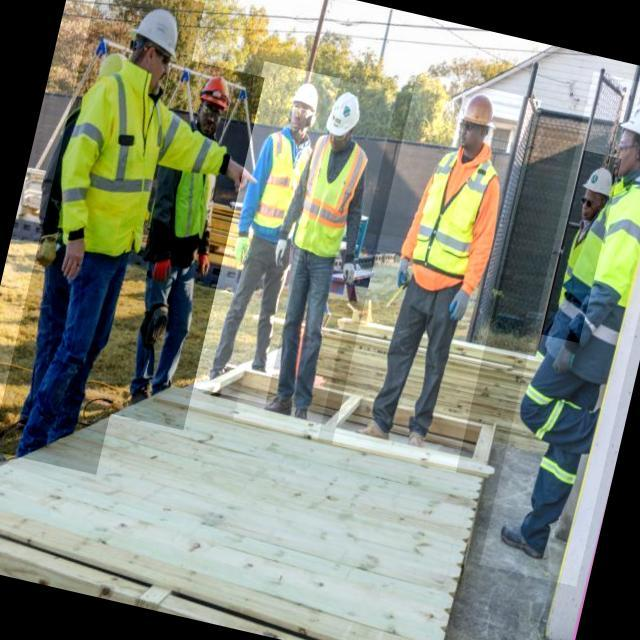Gloves: (549, 339, 589, 382), (445, 285, 474, 331), (391, 254, 419, 295), (233, 229, 256, 268), (340, 259, 363, 294), (273, 234, 289, 274)
Helmet: (126, 3, 188, 63), (451, 92, 510, 137), (323, 88, 366, 140), (287, 78, 324, 115), (199, 72, 235, 110), (617, 92, 640, 151), (581, 166, 615, 200)
Person: (8, 2, 229, 467), (493, 67, 640, 575), (352, 79, 511, 447), (271, 60, 368, 428)
Safety Boot: (495, 521, 550, 561), (260, 391, 294, 419), (356, 417, 394, 441), (406, 428, 430, 448)
Safety Vest: (45, 53, 246, 277), (535, 167, 640, 387), (412, 148, 503, 281), (289, 132, 373, 264), (246, 129, 316, 236), (165, 165, 220, 245)
bare-arms: (52, 233, 91, 289), (223, 150, 262, 205)
